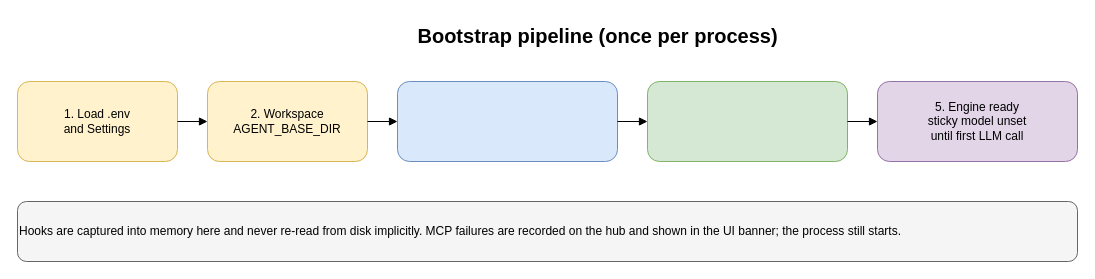
This 1095x279 diagram has some shape labels left out. The box of each missing label's shape, as (x1, y1, x2, y2) in pixels:
3. Parallel load memory · skills · hooks MCP servers · LLM warmup: (396, 80, 618, 162)
4. Register built-in + wrapped MCP tools: (646, 80, 848, 162)
